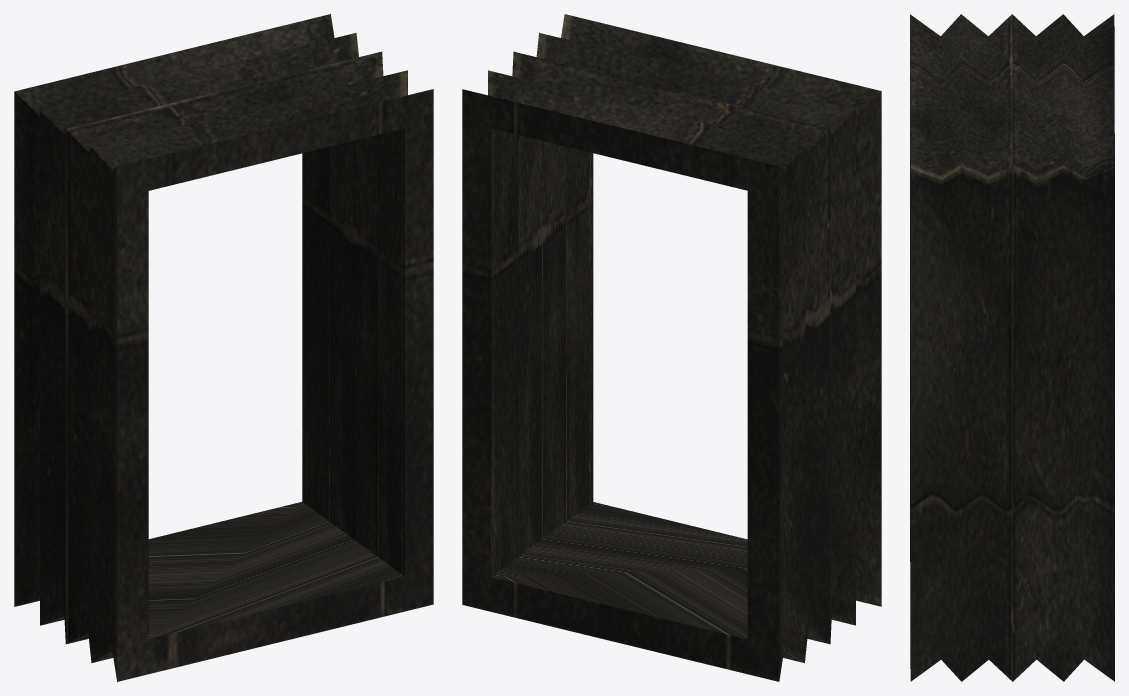
The model's file is train_connector.obj.
The picture shows the model from 3 angles, left to right: view 1: azimuth 30°, elevation 25°; view 2: azimuth 150°, elevation 25°; view 3: azimuth 270°, elevation 25°; orthographic projection.
Parts seen in each view (by area): view 1: train_connector.001; view 2: train_connector.001; view 3: train_connector.001.
Part boxes in pixels (box(x1,y1,x2,y2)): train_connector.001: box(14, 14, 433, 681); train_connector.001: box(462, 14, 881, 681); train_connector.001: box(910, 14, 1114, 681).
Bounding box in the file's own units: 0.1801 × 0.28 × 0.1012.
